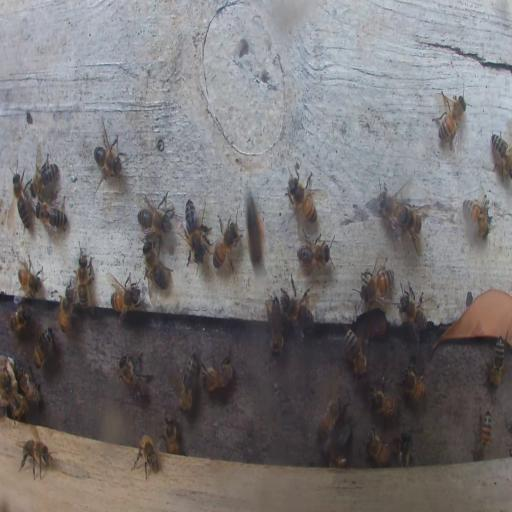bee: (243, 188, 268, 273), (433, 89, 468, 148), (397, 286, 430, 342), (92, 130, 124, 186), (213, 214, 242, 275), (182, 198, 209, 262), (376, 185, 411, 234), (118, 352, 152, 402), (141, 241, 173, 292), (287, 171, 317, 224), (19, 435, 54, 479), (137, 193, 173, 234), (174, 354, 199, 412), (359, 263, 393, 305), (395, 202, 425, 249), (11, 171, 34, 232), (368, 374, 399, 419), (315, 396, 344, 444), (298, 234, 334, 272), (110, 276, 141, 320), (201, 352, 234, 393), (282, 291, 314, 333), (131, 434, 160, 480), (470, 404, 493, 461), (30, 151, 58, 197), (344, 328, 368, 378), (36, 196, 67, 233), (76, 243, 93, 309), (402, 360, 426, 405), (266, 297, 284, 357), (490, 132, 512, 180), (16, 365, 42, 405), (464, 198, 490, 238), (364, 428, 390, 466), (17, 260, 43, 296), (33, 326, 54, 367), (487, 336, 504, 385), (162, 412, 179, 456), (395, 429, 414, 468), (8, 304, 30, 334), (59, 288, 73, 333), (8, 395, 28, 421), (2, 360, 14, 400), (328, 452, 348, 468)
